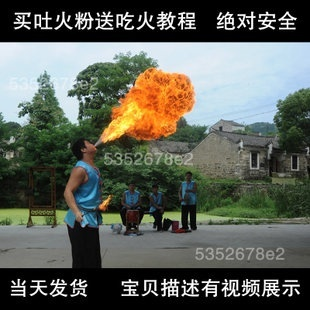fire: (95, 66, 197, 140), (98, 193, 112, 209)
